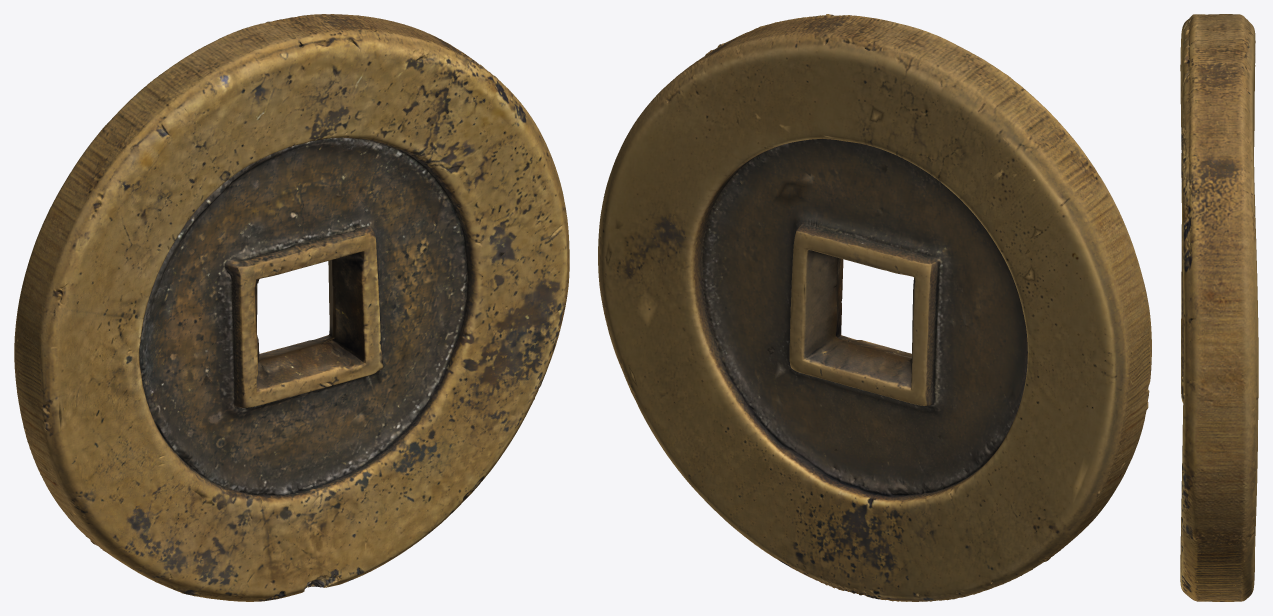
3 views of the same model, side by side, from view 1: azimuth 30°, elevation 25°; view 2: azimuth 150°, elevation 25°; view 3: azimuth 270°, elevation 25° (orthographic). The views are drawn at different scales.
Bounding box in the file's own units: 1.18 × 1.19 × 0.159.
Materials: 1 (1 with a texture image).
